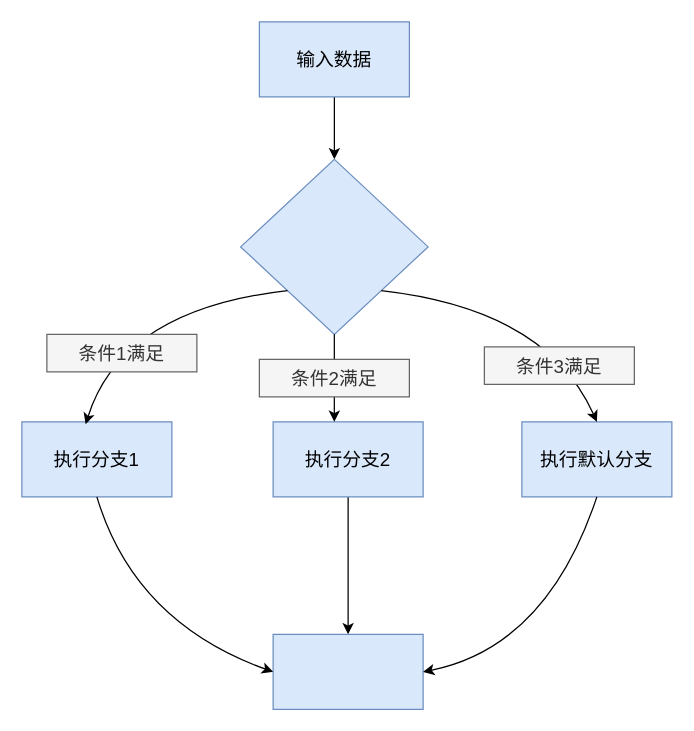
This 694x731 diagram has some shape labels left out. The shapes that lost their labels are listed below. From the top down, each one's box as (x1, y1, x2, y2) in pixels, then its label:
(239, 158, 428, 334): 条件判断
(272, 633, 423, 709): 输出结果
